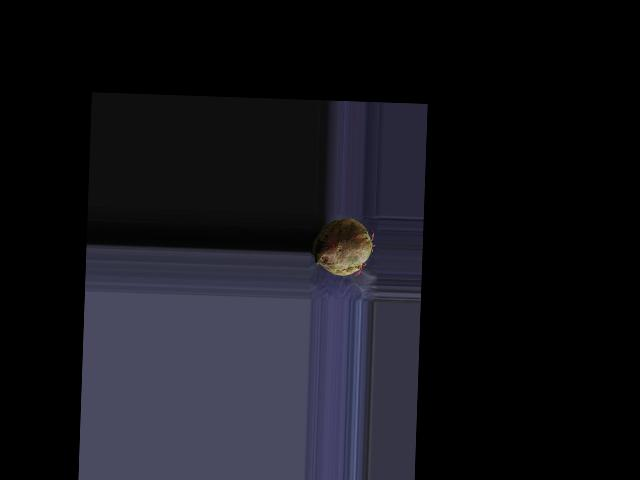beet: (311, 217, 375, 277)
